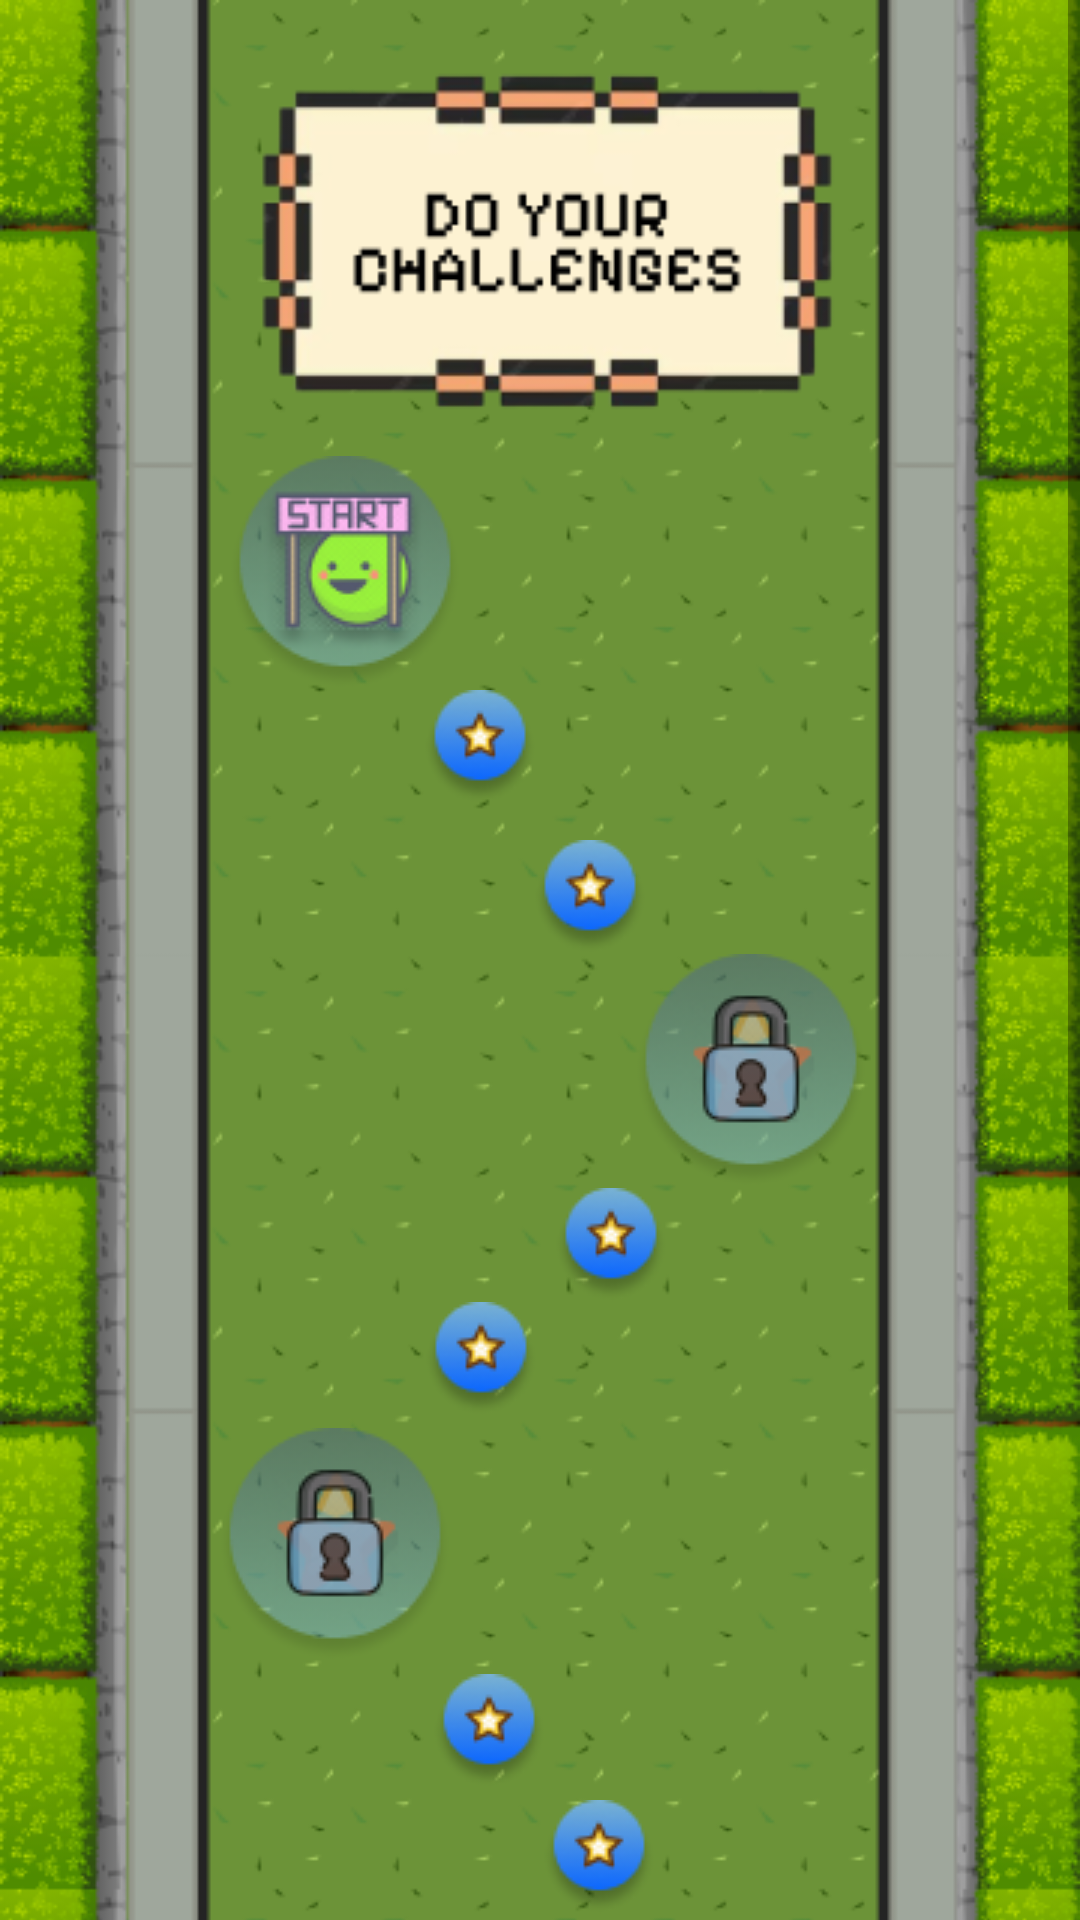

Icon click points for this 1080 × 1920 phone screenshot, format (x,y):
level locked: (738,1064), (350,1533)
